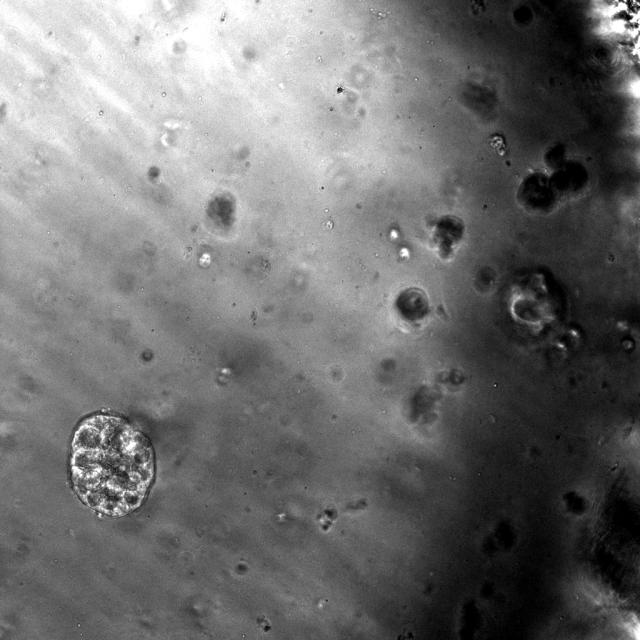organoid: (68, 410, 154, 518), (516, 142, 588, 214), (428, 214, 463, 259), (206, 188, 237, 232), (396, 288, 428, 320), (490, 133, 508, 155)
